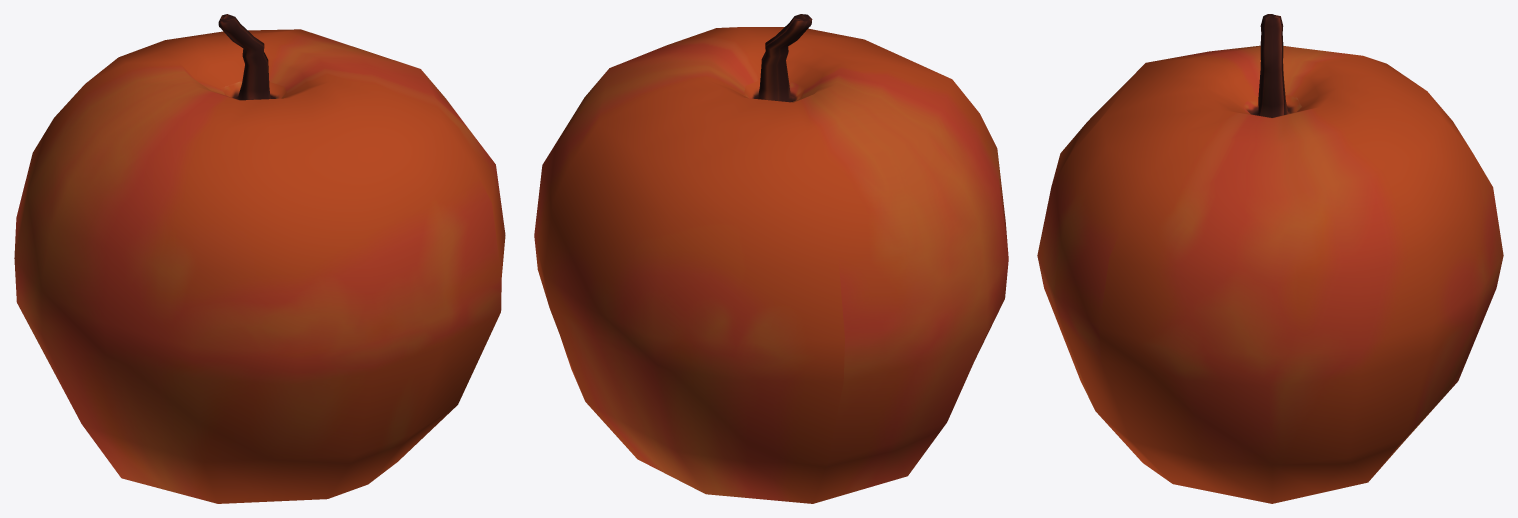
The model's file is omena(1).fbx.
3 renders of one model, left to right at view 1: azimuth 30°, elevation 25°; view 2: azimuth 150°, elevation 25°; view 3: azimuth 270°, elevation 25°, orthographic. The views are drawn at different scales.
Visible parts, largest first — view 1: Cube; view 2: Cube; view 3: Cube.
Boxes of the visible parts, left/top/right/bottom form: Cube: left=14, top=14, right=505, bottom=503; Cube: left=534, top=14, right=1008, bottom=503; Cube: left=1037, top=14, right=1503, bottom=503.
Bounding box in the file's own units: 271 × 269 × 269.
